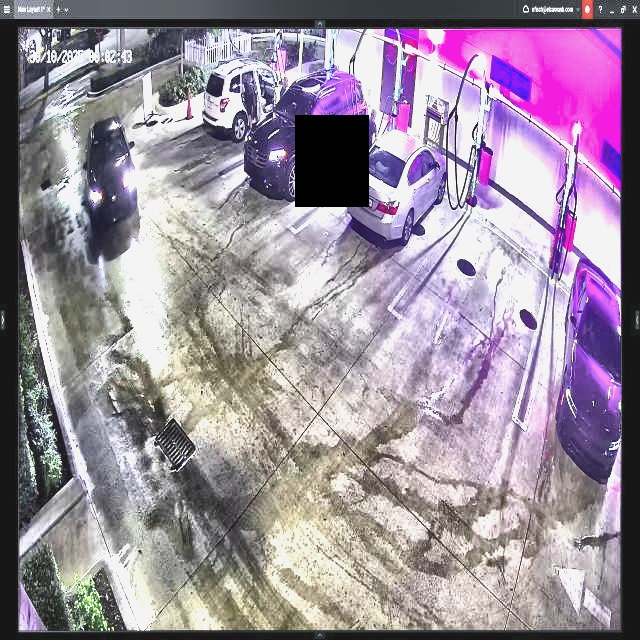Car: (242, 67, 368, 200), (346, 129, 447, 243), (202, 60, 295, 141), (83, 118, 136, 219)
